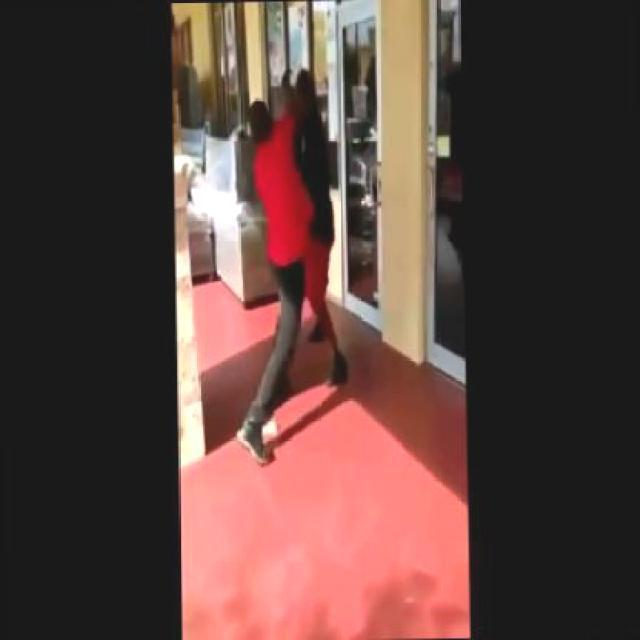fight: (238, 68, 347, 466)
